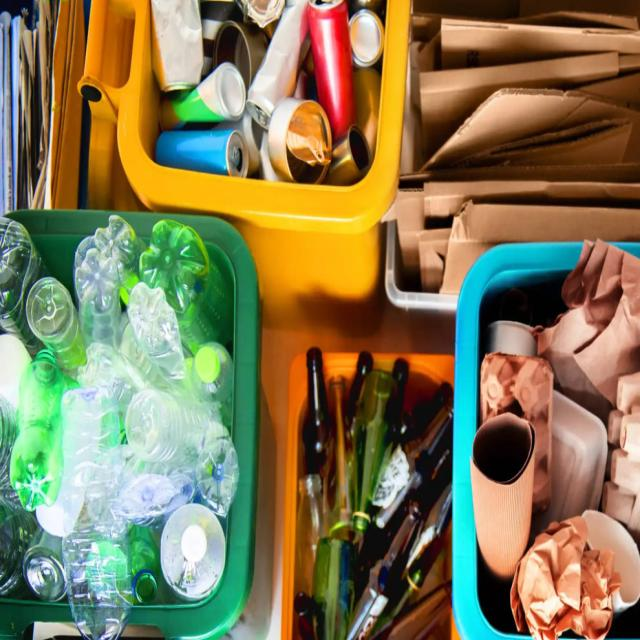Metal: (248, 0, 314, 130), (305, 4, 354, 140), (155, 130, 247, 178), (171, 70, 235, 124), (286, 112, 328, 180), (325, 132, 371, 188), (222, 64, 248, 118)
Papel: (416, 89, 640, 175), (431, 206, 640, 297), (511, 510, 640, 640), (420, 52, 623, 99), (561, 235, 639, 347), (472, 446, 533, 578), (547, 400, 606, 520), (604, 370, 639, 537), (553, 314, 613, 407), (481, 355, 553, 419), (473, 415, 534, 481), (423, 180, 640, 194), (398, 188, 427, 262)
Plastico: (39, 386, 103, 535), (9, 355, 66, 514), (141, 219, 207, 316), (0, 217, 49, 336), (186, 415, 240, 520), (0, 336, 30, 516), (164, 508, 225, 593), (25, 529, 72, 609), (79, 239, 119, 310), (30, 281, 71, 341), (197, 347, 233, 415), (132, 285, 163, 351), (127, 398, 162, 456)
Vidrio: (313, 380, 356, 640), (347, 496, 419, 640), (354, 367, 396, 531), (292, 481, 327, 640), (299, 355, 336, 479), (345, 357, 374, 448)
